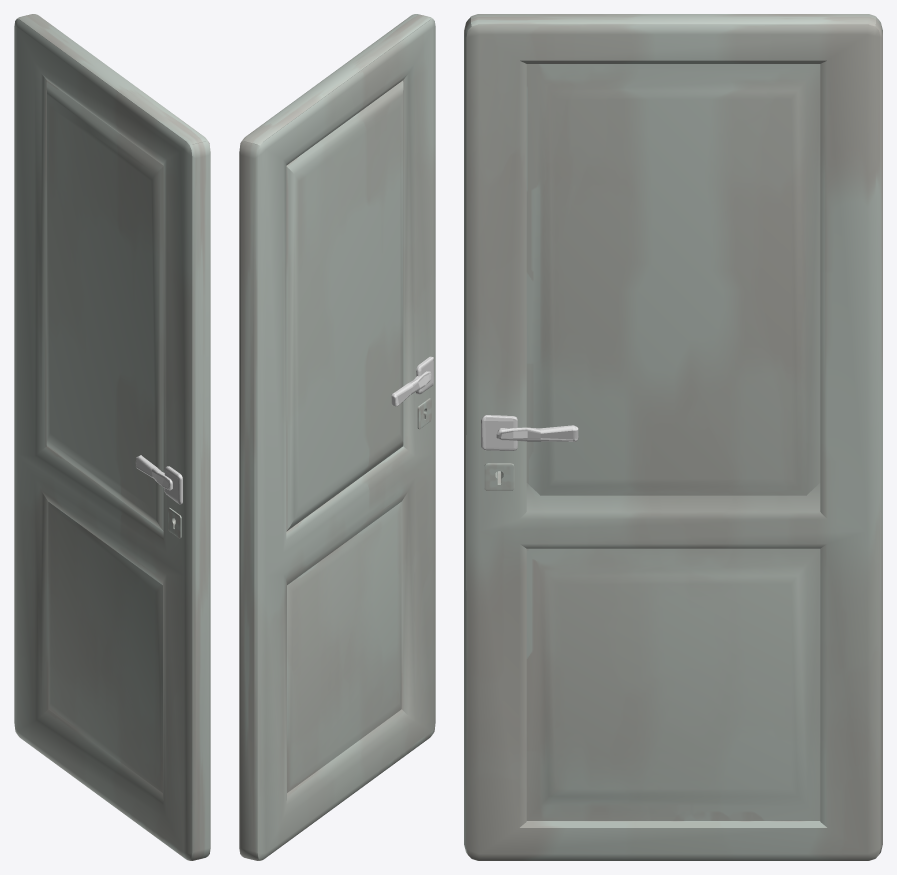
File: door.fbx
3 renders of one model, left to right at view 1: azimuth 30°, elevation 25°; view 2: azimuth 150°, elevation 25°; view 3: azimuth 270°, elevation 25°, orthographic. The views are drawn at different scales.
Visible parts, largest first — view 1: Door, DoorHandle, DoorHandleBox; view 2: Door, DoorHandle; view 3: Door, DoorHandle, DoorHandleBox.
Part boxes in pixels (box(x1,y1,x2,y2)): Door: box(14, 14, 210, 860); DoorHandle: box(135, 455, 172, 490); DoorHandleBox: box(164, 466, 182, 504); Door: box(239, 14, 435, 860); DoorHandle: box(391, 371, 431, 406); Door: box(464, 14, 882, 860); DoorHandle: box(496, 425, 578, 441); DoorHandleBox: box(481, 415, 517, 450).
Size of the model in its own units: 0.3747 by 6.65 by 3.01.
2 materials, 1 textured.
